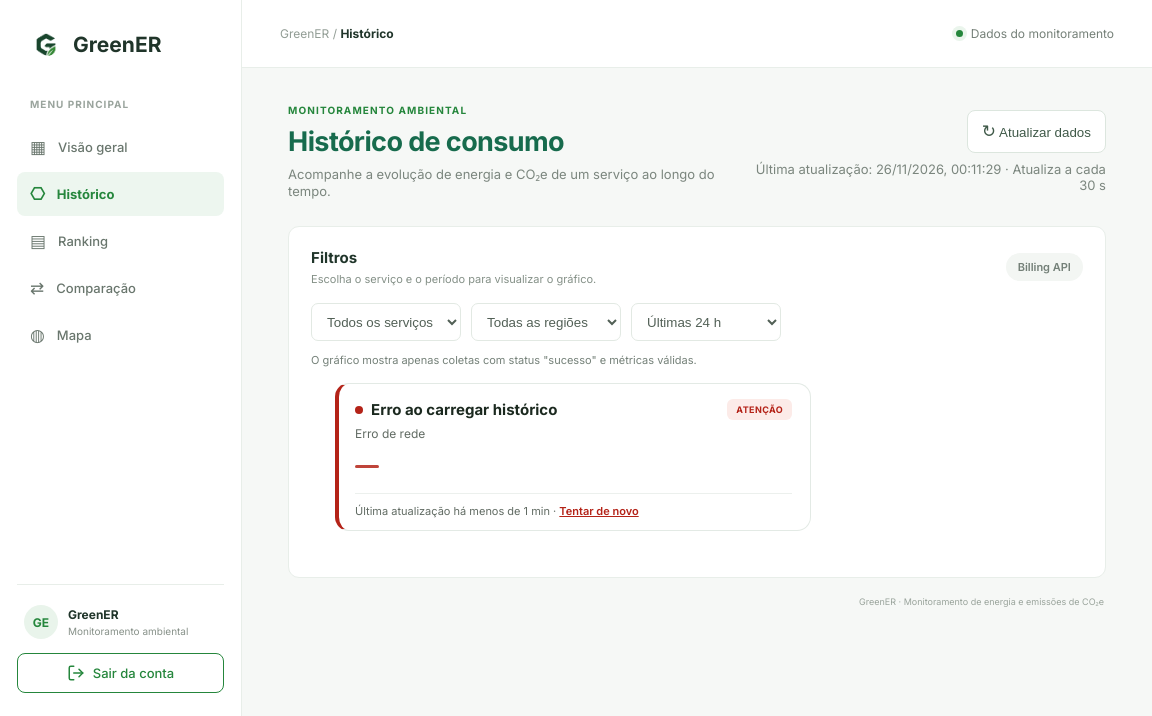
HistoricoPage › mostra erro ao buscar histórico e mantém dados anteriores
The width and height of the screenshot is (1152, 716).
Expected: the heading "Erro ao carregar histórico" is shown, [355,400,557,419]
Click the button "Tentar de novo" at (599, 511), box [559,504,639,518]
(page scrolled)
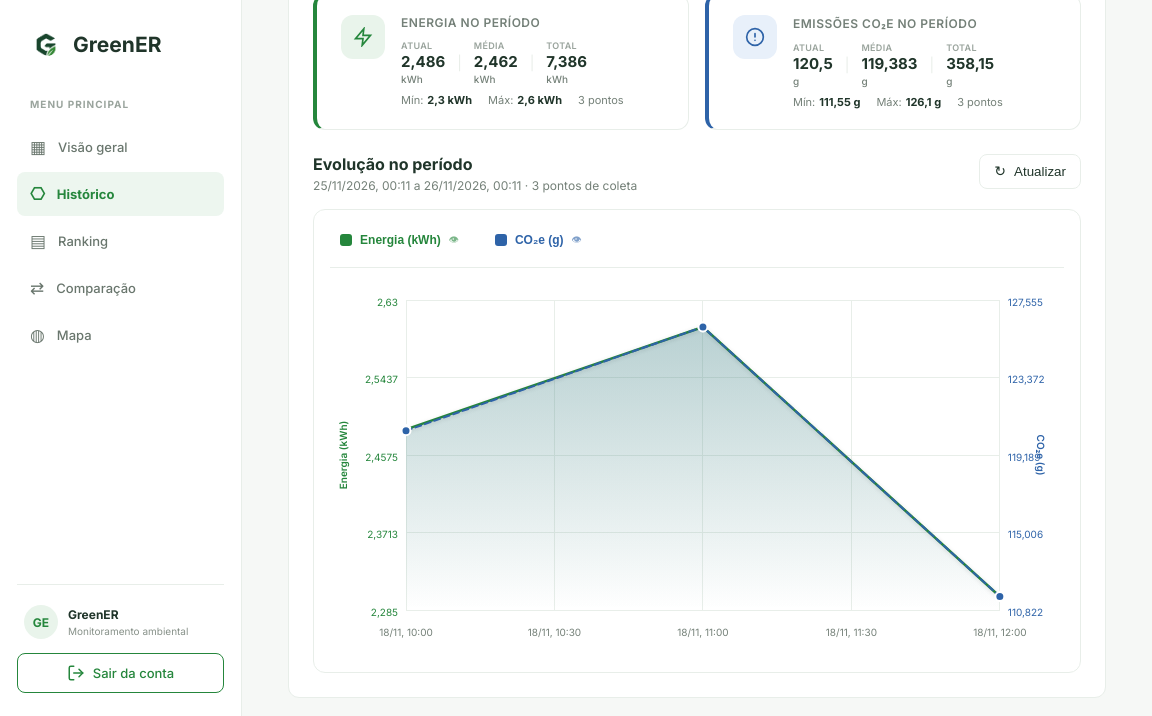
Expected: the element named "gráfico de linha" is shown, [313,208,1081,672]
